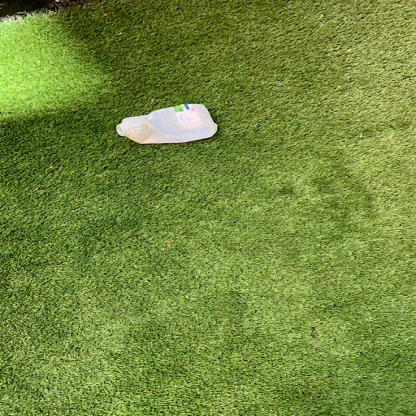trash: (119, 102, 221, 146)
